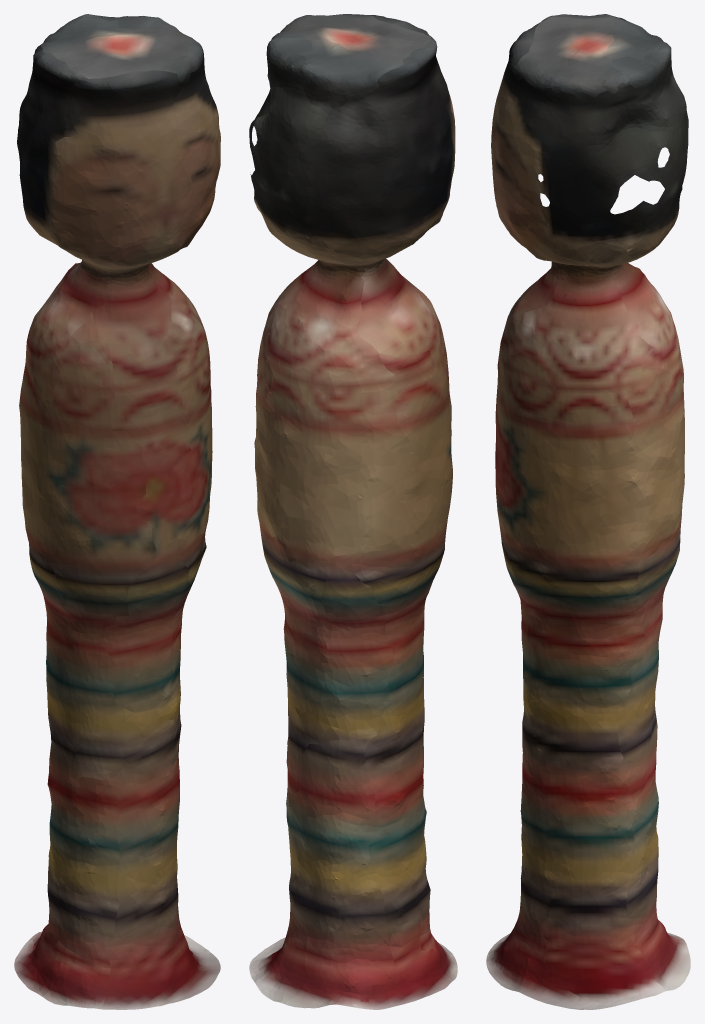
The model's file is kokeshi006.glb.
The picture shows the model from 3 angles, left to right: view 1: azimuth 30°, elevation 25°; view 2: azimuth 150°, elevation 25°; view 3: azimuth 270°, elevation 25°; orthographic projection.
Visible parts, largest first — view 1: mesh; view 2: mesh; view 3: mesh.
Part boxes in pixels (x1,y1,x2,y2): mesh: (14,14,220,1009); mesh: (249,14,457,1009); mesh: (486,14,690,1009).
Bounding box in the file's own units: 0.0613 × 0.3035 × 0.0609.
1 material, 1 textured.
